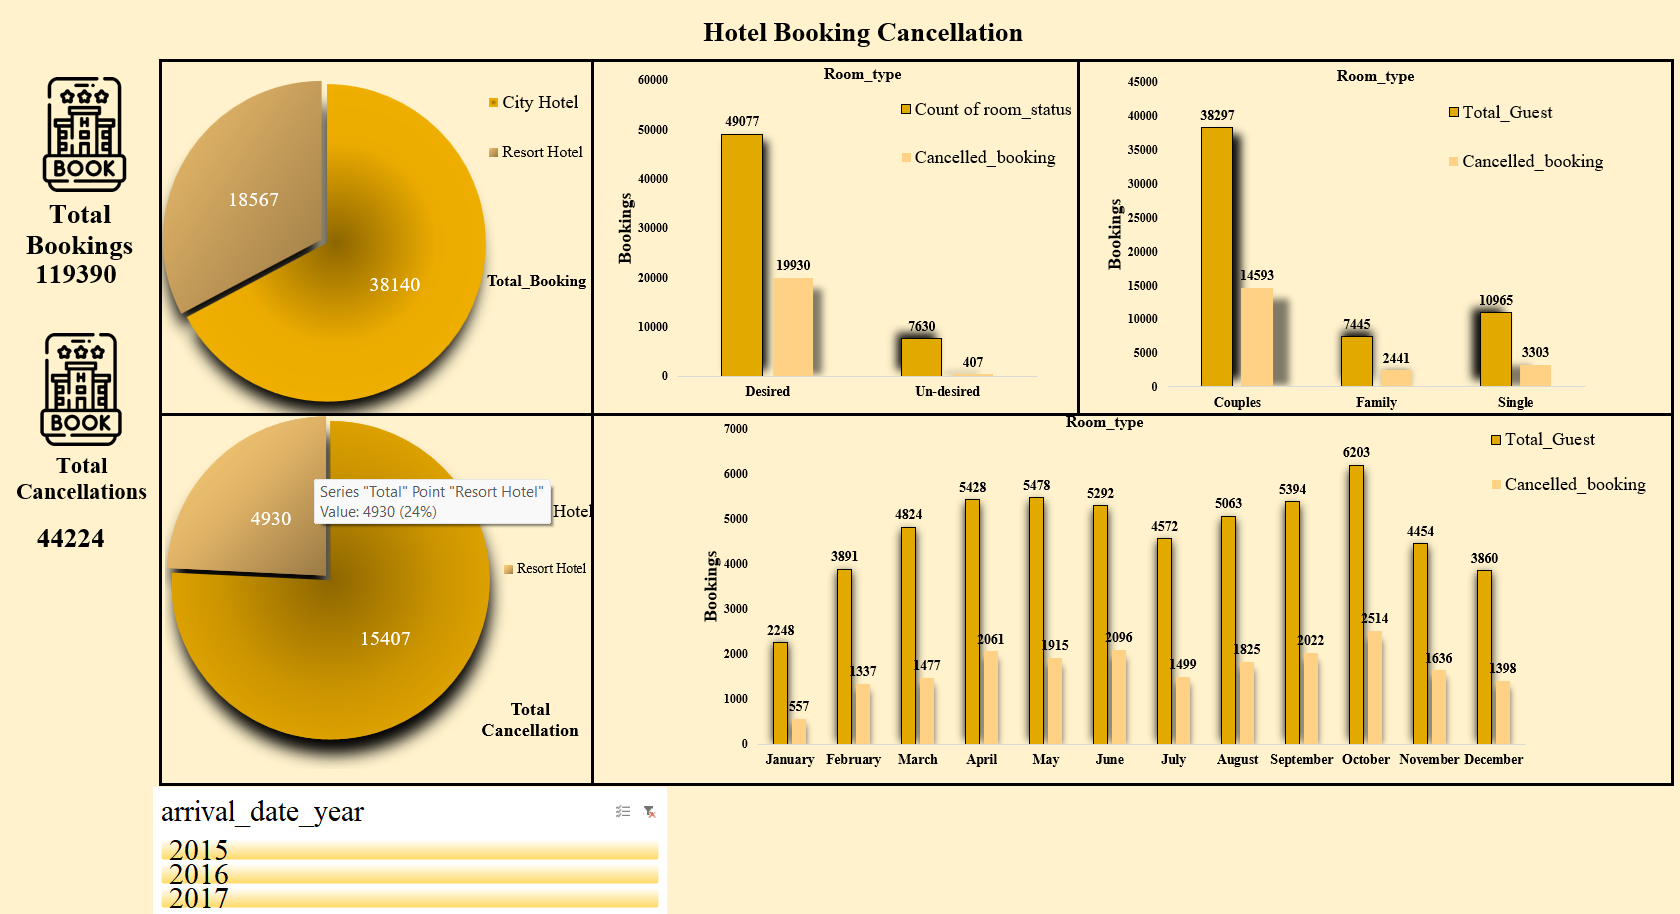

The page's visual inventory and layout, read from the dashboard file:
{"tool":"powerbi","page":{"name":"Page 1","canvas":[1280,720],"ordinal":0},"visuals":[{"type":"donutChart","title":"Total Booking","fields":{"Category":["hotel.hotel"],"Y":["CountNonNull(hotel.hotel)"]},"box":[46.5,72.1,320.4,320.4],"z":0},{"type":"donutChart","title":"Total Cancellation ","fields":{"Category":["hotel.hotel"],"Y":["Sum(hotel.is_canceled)"]},"box":[46.5,401.1,320.4,319.2],"z":1000},{"type":"clusteredColumnChart","title":"Cancel booking based on room type","fields":{"Category":["hotel.Room_type"],"Y":["CountNonNull(hotel.Room_type)","Sum(hotel.is_canceled)"]},"box":[382.8,112.5,428.1,279.9],"z":2000},{"type":"clusteredBarChart","title":"Total Guest and Cancellation","fields":{"Category":["hotel.Guest_type"],"Y":["CountNonNull(hotel.Guest_type)","Sum(hotel.is_canceled)"]},"box":[824.7,112.5,396.6,279.9],"z":3000},{"type":"clusteredColumnChart","title":"Total guest and cancelation based on arrival month","fields":{"Category":["hotel.arrival_date_month"],"Y":["CountNonNull(hotel.Guest_type)","Sum(hotel.is_canceled)"]},"box":[382.8,400.7,838.4,319.7],"z":4000},{"type":"slicer","title":"Years","fields":{"Values":["hotel.reservation_status_date.Variation.Date Hierarchy.Year"]},"box":[824.7,11,396.6,91.9],"z":5000},{"type":"textbox","box":[382.8,12.3,428.1,90.6],"z":6000}]}

Visuals, with their boxes on the page's 1280x720 design canvas (x1, y1, x2, y2). These are canvas units, not pixel positions in the 1680x914 screenshot, which may show the page scaled, cropped or inside an application window:
"Total Booking" donutChart: <box>46,72,367,392</box>
"Total Cancellation " donutChart: <box>46,401,367,720</box>
"Cancel booking based on room type" clusteredColumnChart: <box>383,112,811,392</box>
"Total Guest and Cancellation" clusteredBarChart: <box>825,112,1221,392</box>
"Total guest and cancelation based on arrival month" clusteredColumnChart: <box>383,401,1221,720</box>
"Years" slicer: <box>825,11,1221,103</box>
textbox: <box>383,12,811,103</box>
